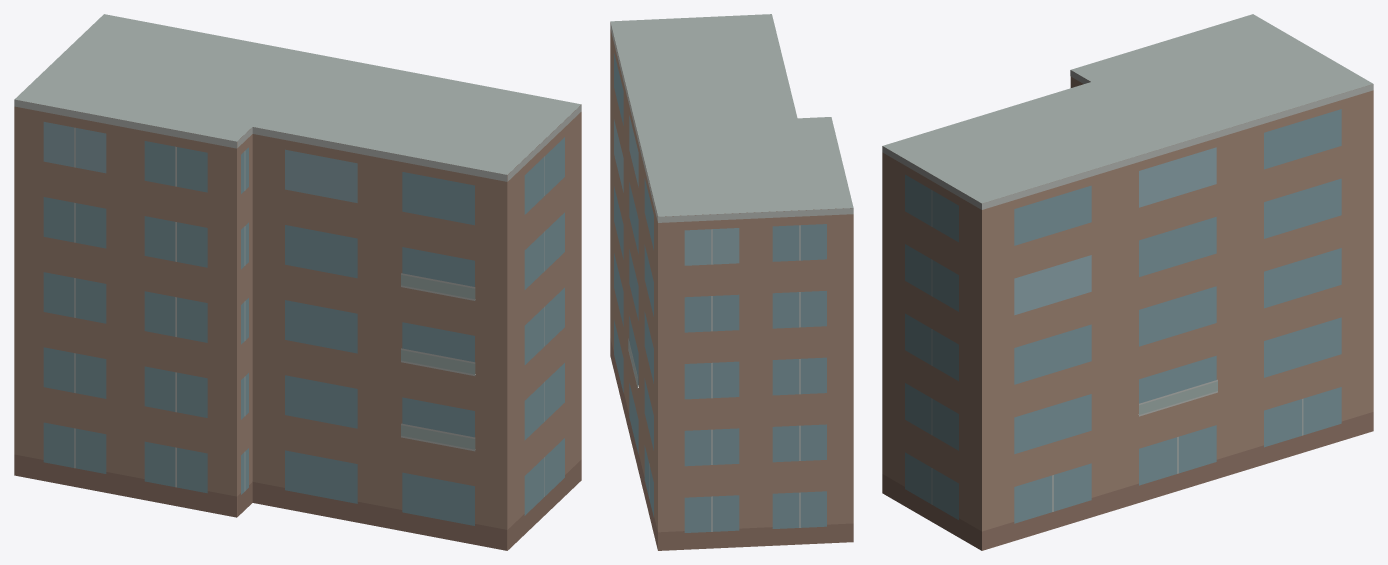
Rendered from survey-upis-32693658.glb.
3 views of the same model, side by side, from view 1: azimuth 30°, elevation 25°; view 2: azimuth 150°, elevation 25°; view 3: azimuth 270°, elevation 25° (orthographic). The views are drawn at different scales.
Parts seen in each view (by area): view 1: survey-upis-32693658.tmp; view 2: survey-upis-32693658.tmp; view 3: survey-upis-32693658.tmp.
Part boxes in pixels (<box>): survey-upis-32693658.tmp: <box>14,14,581,550</box>; survey-upis-32693658.tmp: <box>610,14,853,550</box>; survey-upis-32693658.tmp: <box>882,14,1373,550</box>.
Size of the model in its own units: 15.34 by 13.1 by 16.79.
